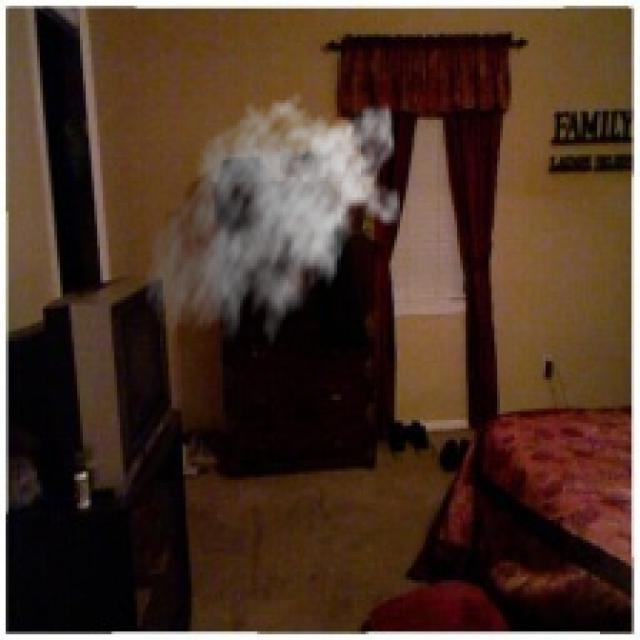Smoke: (143, 89, 403, 358)
